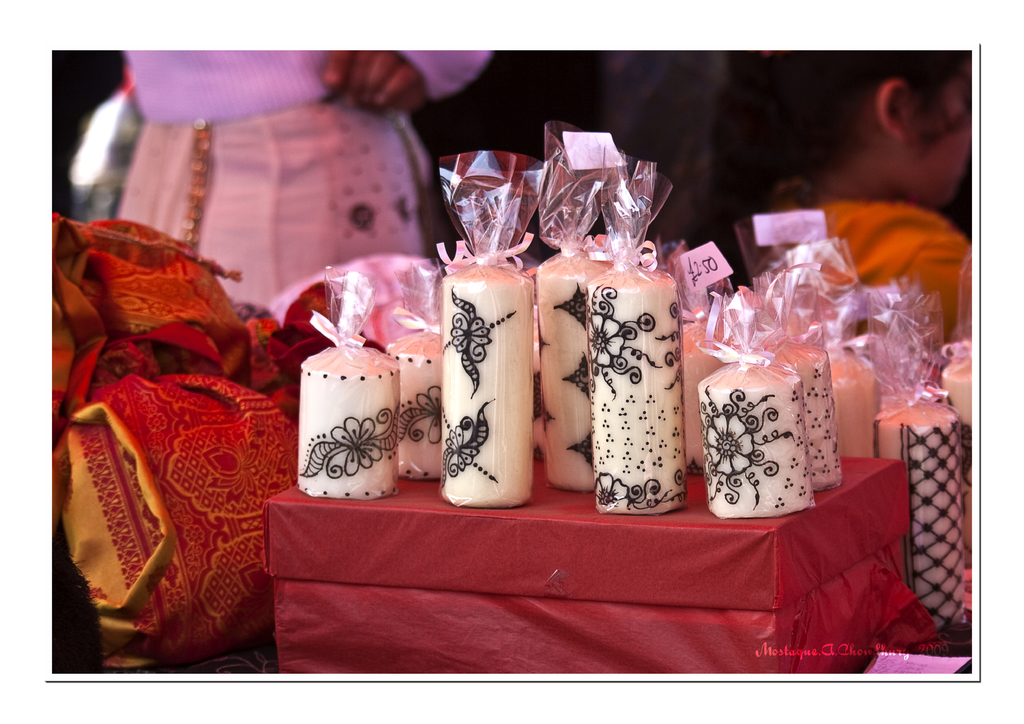face: (888, 64, 972, 205)
